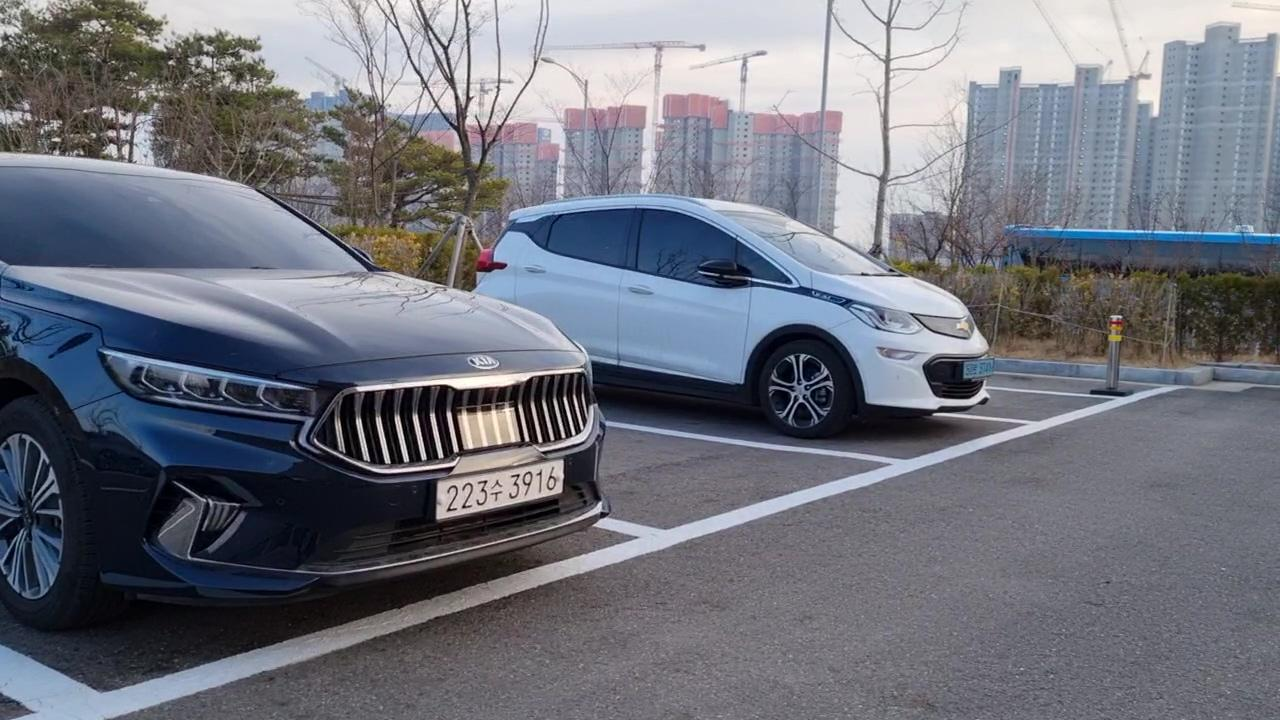empty: (594, 344, 893, 537), (982, 340, 1123, 430)
occupied: (0, 172, 658, 702), (487, 207, 1033, 471)
